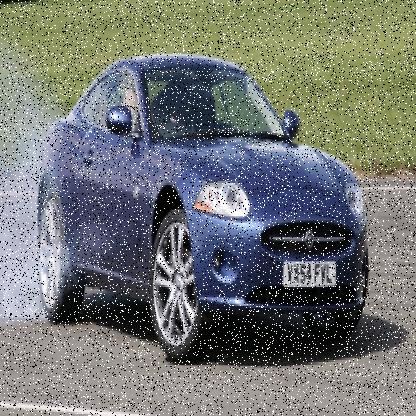licence: (280, 260, 333, 295)
